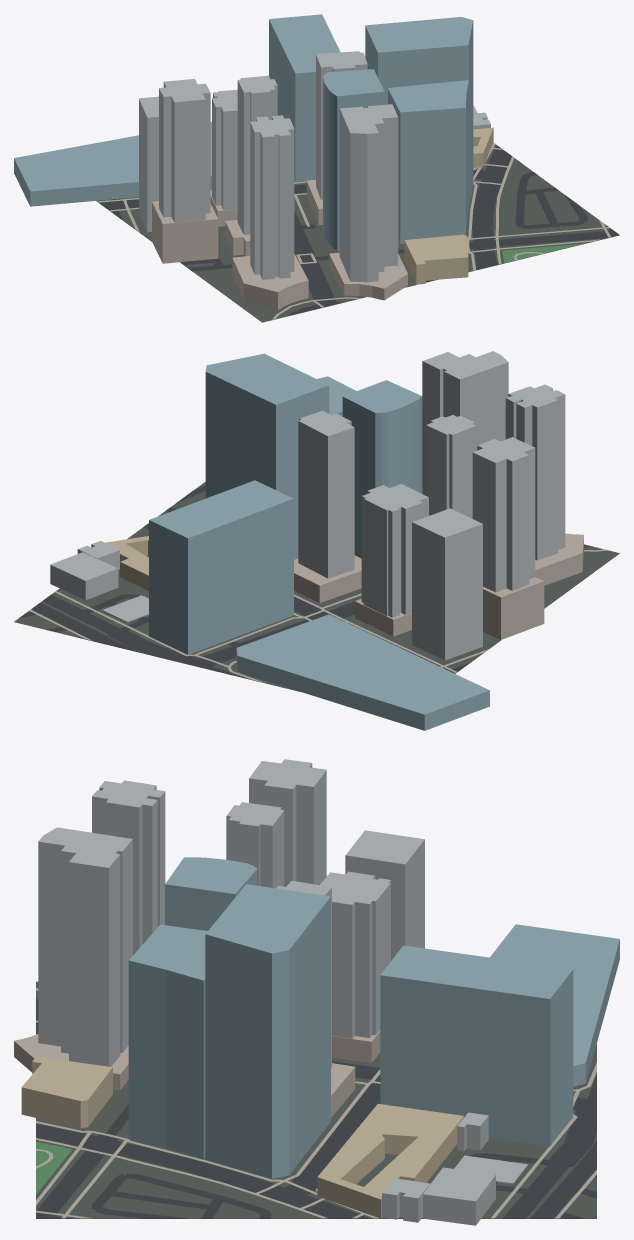
File: tile_002_008.glb
The picture shows the model from 3 angles, top to bottom: view 1: azimuth 30°, elevation 25°; view 2: azimuth 150°, elevation 25°; view 3: azimuth 270°, elevation 25°; orthographic projection. The views are drawn at different scales.
Parts seen in each view (by area): view 1: tile_002_008_buildings_office, tile_002_008_buildings_neutral, tile_002_008_ground, tile_002_008_buildings_residential, tile_002_008_roads, tile_002_008_buildings_retail, tile_002_008_paths, tile_002_008_open_spaces; view 2: tile_002_008_buildings_office, tile_002_008_buildings_neutral, tile_002_008_buildings_residential, tile_002_008_ground, tile_002_008_roads, tile_002_008_paths, tile_002_008_buildings_retail; view 3: tile_002_008_buildings_office, tile_002_008_buildings_neutral, tile_002_008_roads, tile_002_008_ground, tile_002_008_buildings_retail, tile_002_008_paths, tile_002_008_buildings_residential, tile_002_008_open_spaces.
Boxes of the visible parts, bbox=[...] form: tile_002_008_buildings_office: bbox=[14, 14, 473, 250]; tile_002_008_buildings_neutral: bbox=[139, 51, 490, 282]; tile_002_008_ground: bbox=[96, 144, 619, 322]; tile_002_008_buildings_residential: bbox=[152, 179, 407, 309]; tile_002_008_roads: bbox=[99, 145, 619, 315]; tile_002_008_buildings_retail: bbox=[404, 127, 493, 284]; tile_002_008_paths: bbox=[97, 142, 610, 319]; tile_002_008_open_spaces: bbox=[502, 243, 583, 262]; tile_002_008_buildings_office: bbox=[149, 353, 489, 730]; tile_002_008_buildings_neutral: bbox=[50, 351, 565, 660]; tile_002_008_buildings_residential: bbox=[294, 533, 583, 639]; tile_002_008_ground: bbox=[14, 482, 619, 692]; tile_002_008_roads: bbox=[19, 485, 592, 678]; tile_002_008_paths: bbox=[29, 549, 609, 683]; tile_002_008_buildings_retail: bbox=[105, 536, 148, 590]; tile_002_008_buildings_office: bbox=[128, 857, 619, 1178]; tile_002_008_buildings_neutral: bbox=[38, 759, 527, 1225]; tile_002_008_roads: bbox=[36, 998, 596, 1218]; tile_002_008_ground: bbox=[36, 981, 596, 1218]; tile_002_008_buildings_retail: bbox=[21, 1056, 463, 1218]; tile_002_008_paths: bbox=[36, 987, 596, 1218]; tile_002_008_buildings_residential: bbox=[14, 1030, 380, 1117]; tile_002_008_open_spaces: bbox=[36, 1141, 72, 1194].
Bounding box in the file's own units: 296 × 111 × 270.
